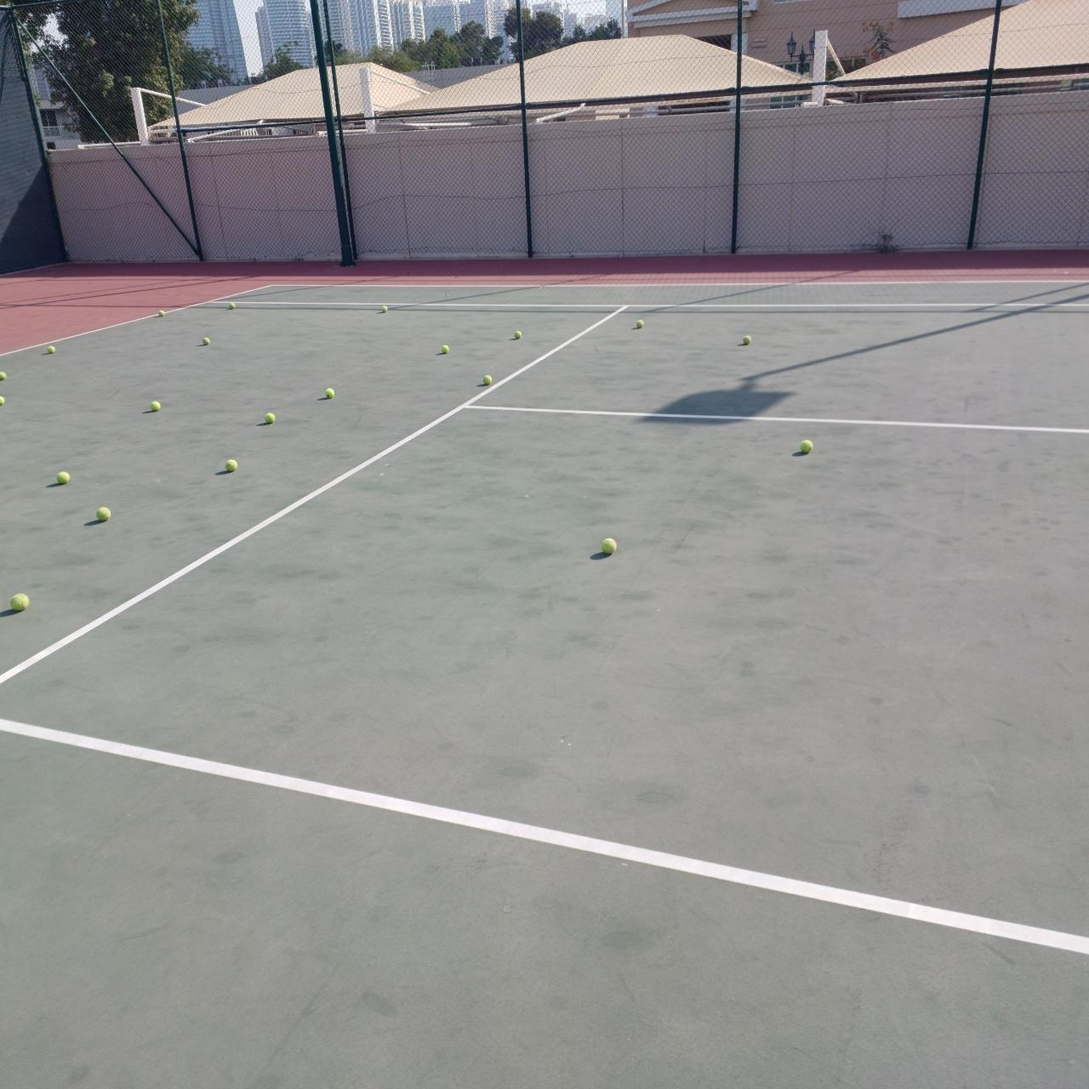tennis-ball: (9, 591, 29, 611), (599, 534, 617, 555), (94, 505, 111, 522), (55, 469, 70, 484), (798, 437, 812, 453), (223, 457, 237, 471), (322, 385, 335, 399), (150, 401, 162, 413), (264, 412, 276, 424), (482, 373, 493, 385), (202, 336, 211, 346), (440, 344, 450, 353), (47, 346, 56, 355), (742, 336, 751, 345), (380, 305, 389, 313), (635, 320, 644, 328), (0, 371, 7, 381), (0, 396, 6, 407), (515, 331, 523, 339), (158, 309, 165, 318), (229, 302, 236, 309)
